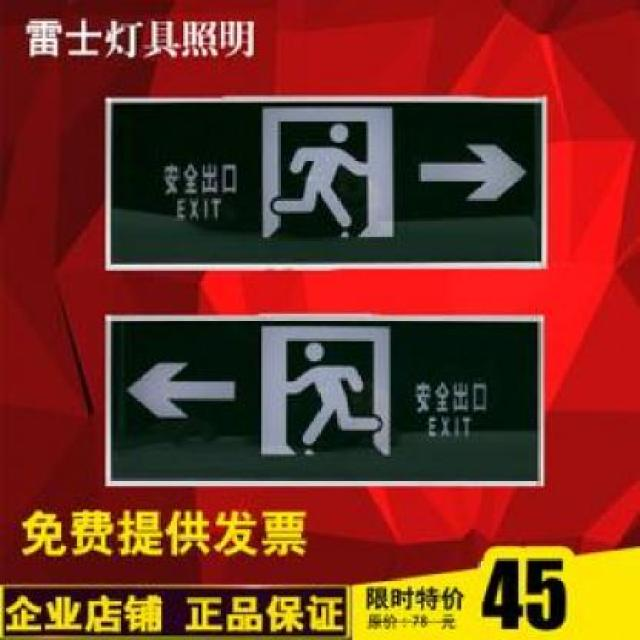exit_sign: (108, 318, 543, 488), (106, 103, 539, 271)
